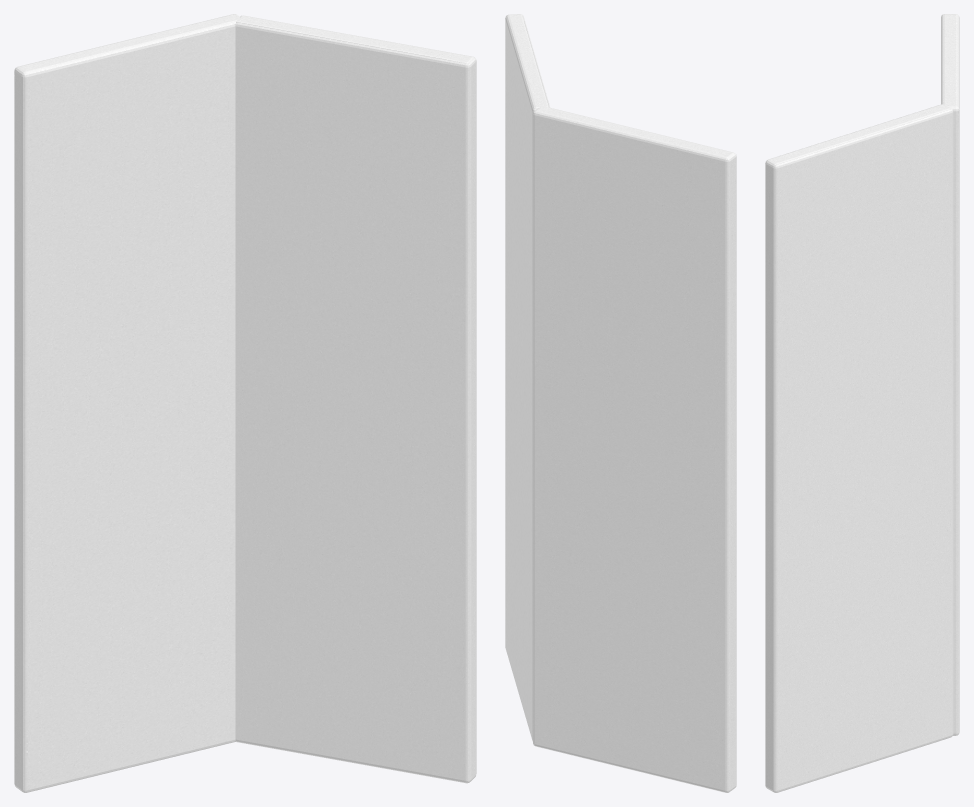
The model's file is Wall.glb.
3 views of the same model, side by side, from view 1: azimuth 30°, elevation 25°; view 2: azimuth 150°, elevation 25°; view 3: azimuth 270°, elevation 25° (orthographic). The views are drawn at different scales.
Visible parts, largest first — view 1: Wall; view 2: Wall; view 3: Wall.
Boxes of the visible parts, x1,y1,x2,y2 form: Wall: (14, 14, 476, 792); Wall: (505, 14, 736, 792); Wall: (765, 14, 959, 792).
Bounding box in the file's own units: 0.9607 × 1.85 × 0.5175.
Materials: 1 (1 with a texture image).
